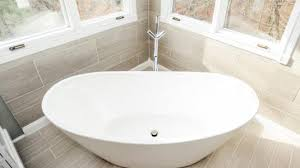bathub: (39, 67, 259, 168)
